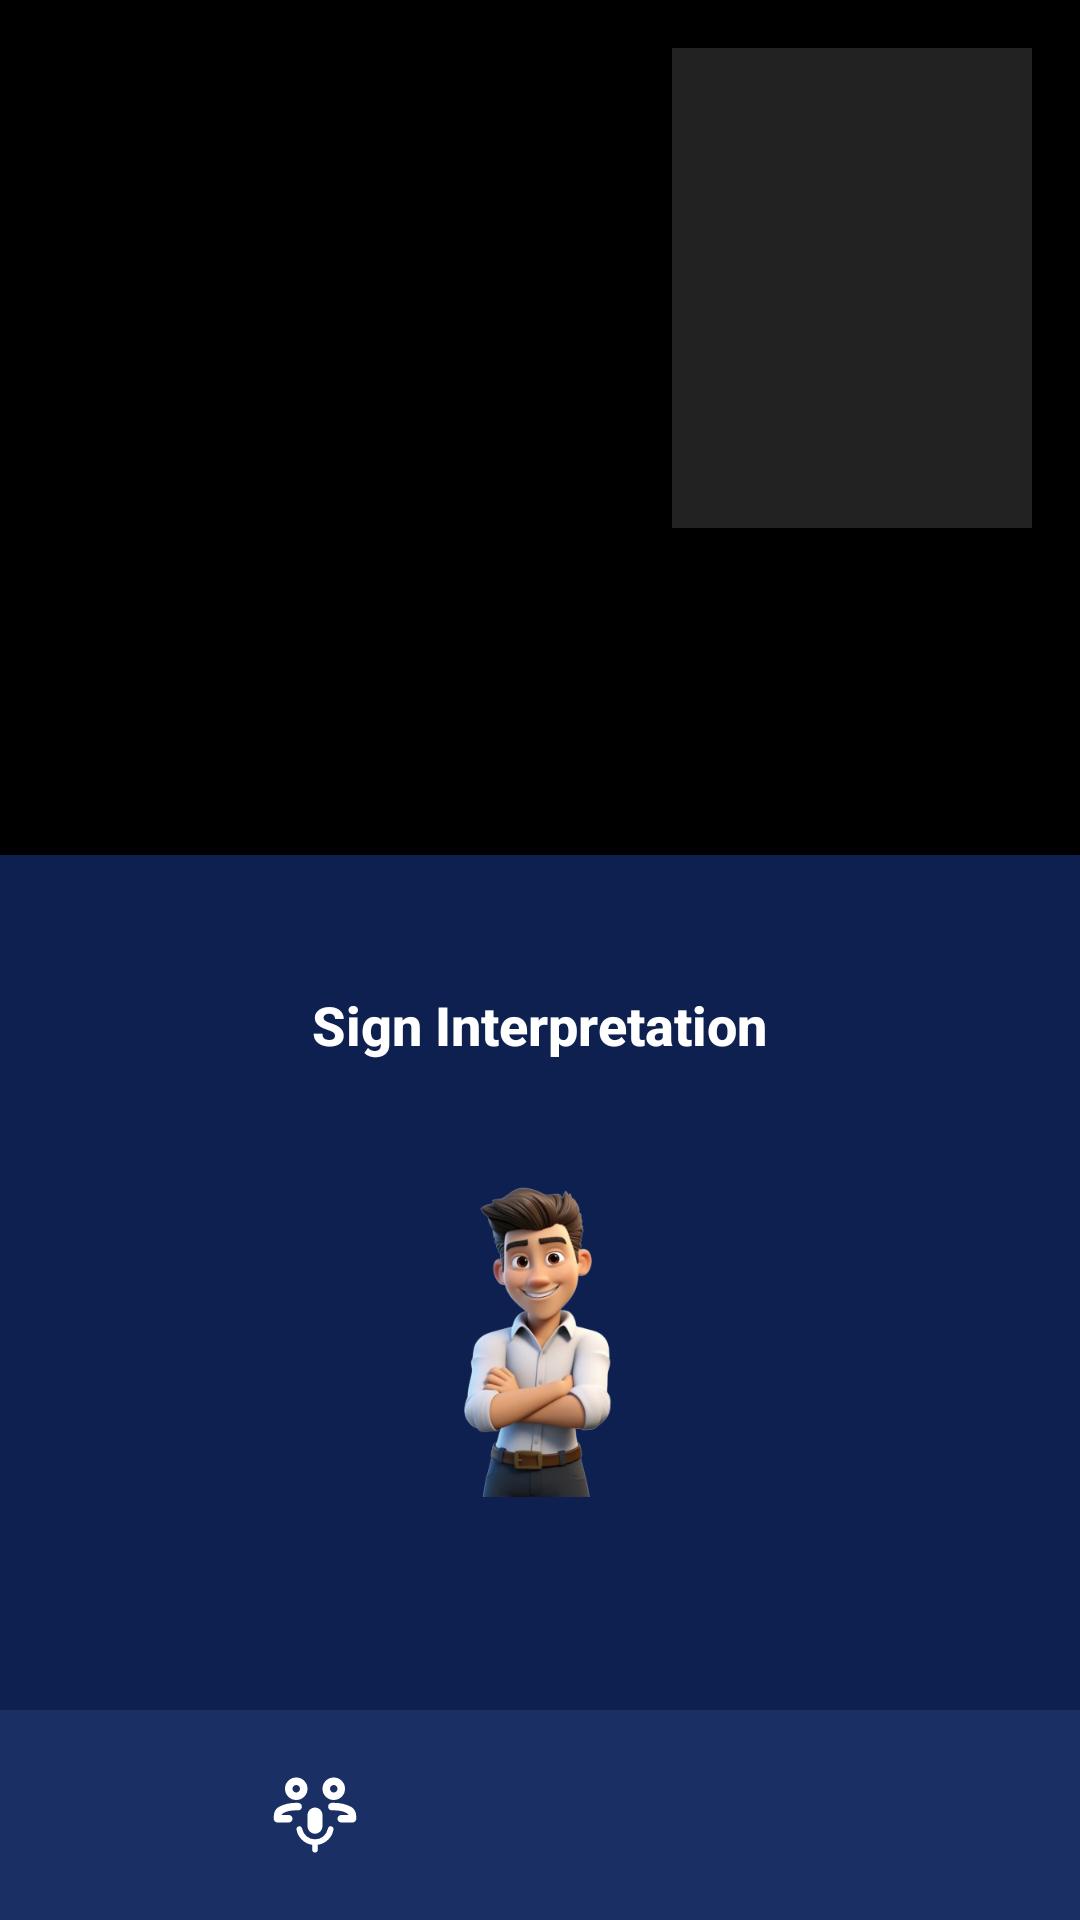

Icons on this 1080 x 1920 Android screen, each with the point to tap as point (x, y):
adaptive audio mic: point (315, 1815)
character: point (537, 1342)
